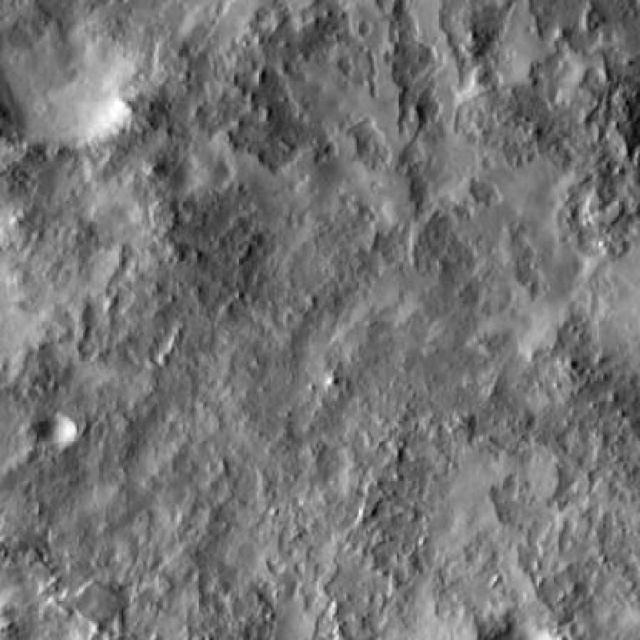crater: (0, 17, 149, 161), (46, 422, 83, 456)
